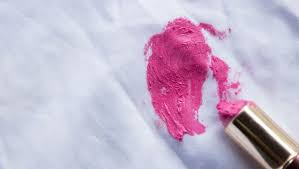kimchi: (137, 22, 237, 137)
